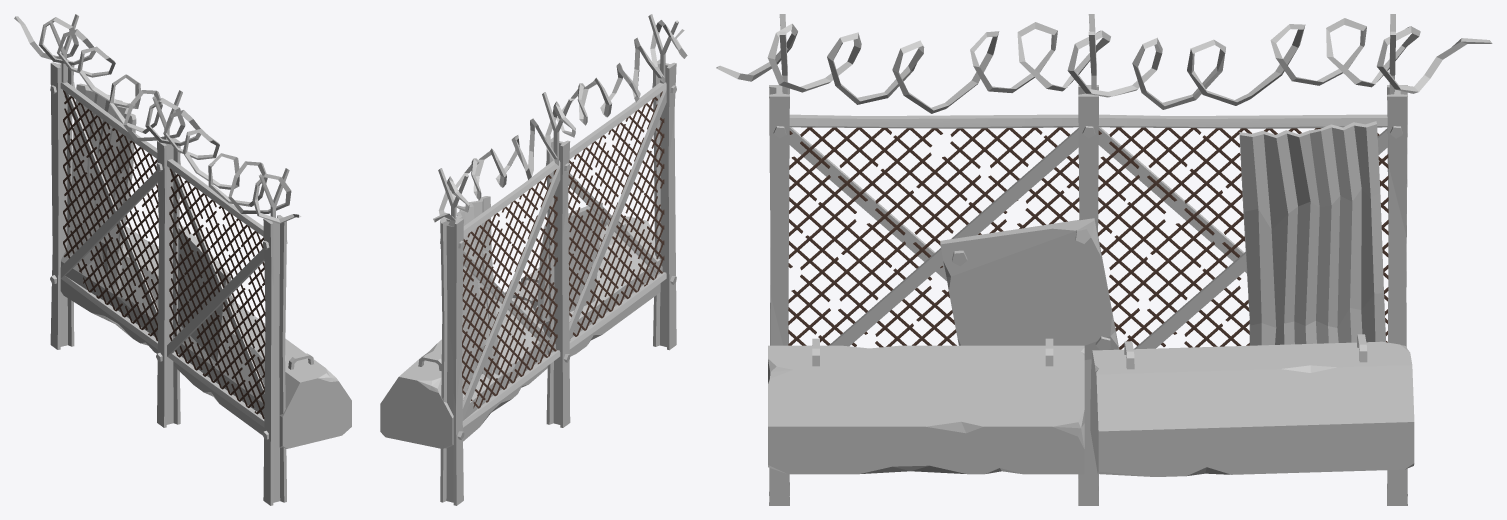
Rendered from SM_Prop_Wall_Junk_05.fbx.
The picture shows the model from 3 angles, left to right: view 1: azimuth 30°, elevation 25°; view 2: azimuth 150°, elevation 25°; view 3: azimuth 270°, elevation 25°; orthographic projection. The views are drawn at different scales.
Parts seen in each view (by area): view 1: SM_Prop_Wall_Junk_05; view 2: SM_Prop_Wall_Junk_05; view 3: SM_Prop_Wall_Junk_05.
Part boxes in pixels (x1,y1,x2,y2): SM_Prop_Wall_Junk_05: (14, 14, 351, 505); SM_Prop_Wall_Junk_05: (380, 14, 687, 505); SM_Prop_Wall_Junk_05: (716, 14, 1492, 505).
Size of the model in its own units: 107 by 334 by 490.
